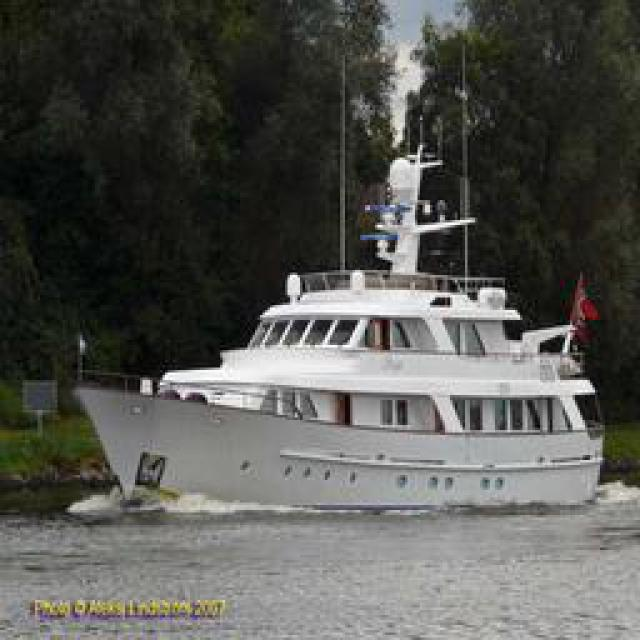Ship: (92, 261, 615, 519)
